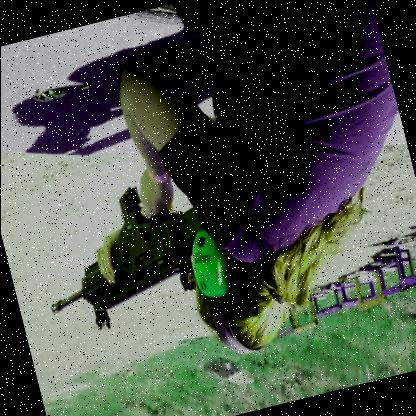rifle: (14, 156, 255, 364)
